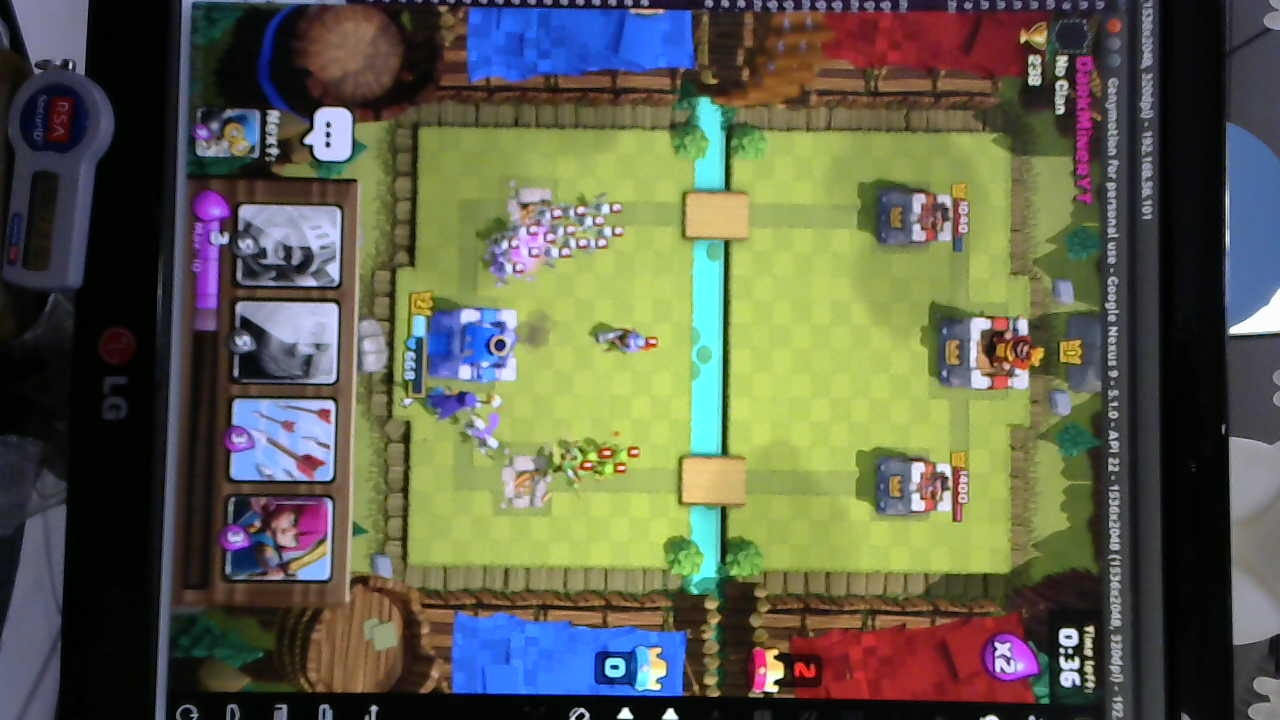darena: (495, 449, 547, 519)
earena: (874, 454, 953, 524), (872, 185, 956, 250)
eking: (935, 311, 1038, 393)
king: (426, 304, 522, 385)
musketeer: (592, 323, 653, 359)
skeleton: (458, 411, 499, 461)
skeletonarmy: (496, 196, 631, 281)
speargoblins: (553, 441, 633, 485)
witch: (426, 385, 485, 419)
